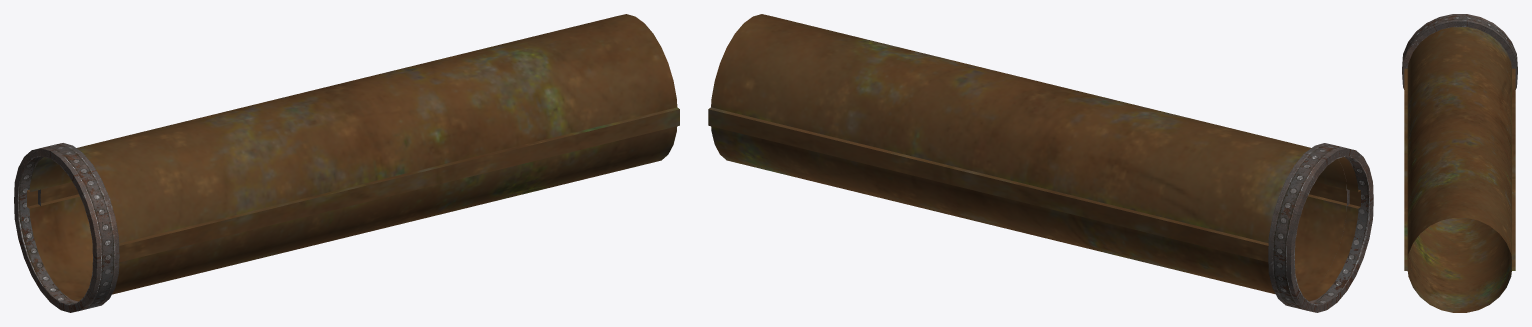
Rendered from pipe_5x2.fbx.
The picture shows the model from 3 angles, left to right: view 1: azimuth 30°, elevation 25°; view 2: azimuth 150°, elevation 25°; view 3: azimuth 270°, elevation 25°; orthographic projection. The views are drawn at different scales.
Parts seen in each view (by area): view 1: pipe_5x2; view 2: pipe_5x2; view 3: pipe_5x2.
Boxes of the visible parts, x1,y1,x2,y2 form: pipe_5x2: [14, 14, 679, 312]; pipe_5x2: [708, 14, 1373, 312]; pipe_5x2: [1402, 14, 1517, 312].
Bounding box in the file's own units: 510 × 126 × 125.
